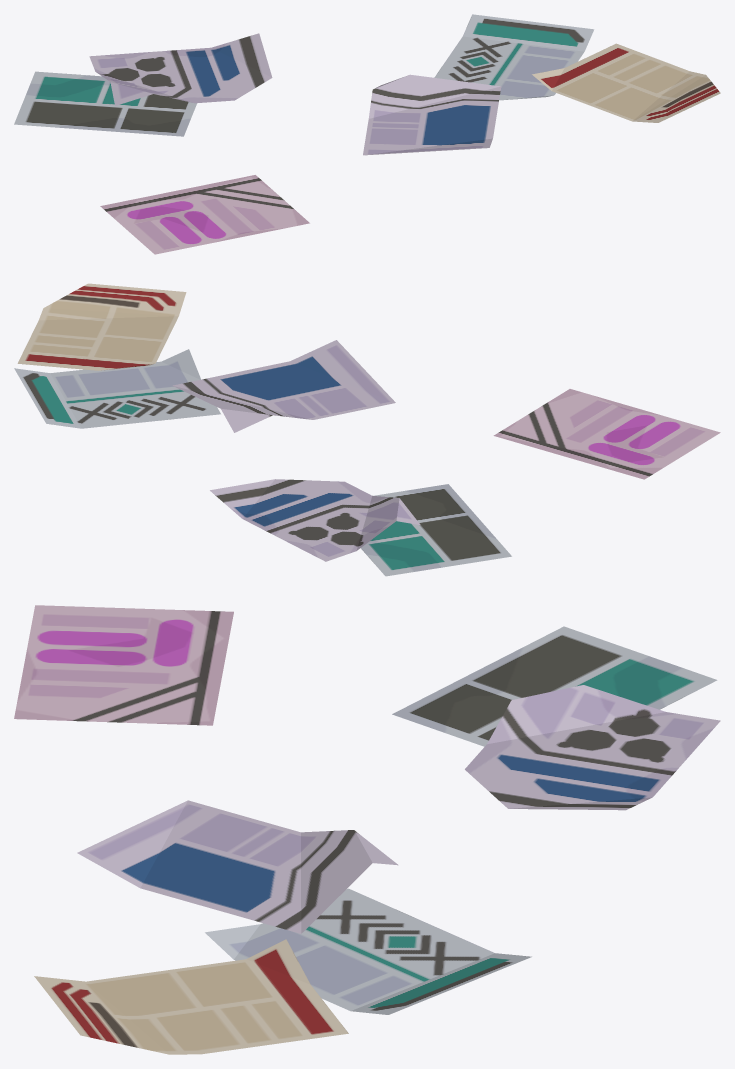
Rendered from SM_Prop_Junk_Paper_01.fbx.
3 views of the same model, one above another, from view 1: azimuth 30°, elevation 25°; view 2: azimuth 150°, elevation 25°; view 3: azimuth 270°, elevation 25° (orthographic). The views are drawn at different scales.
Visible parts, largest first — view 1: SM_Prop_Junk_Paper_01; view 2: SM_Prop_Junk_Paper_01; view 3: SM_Prop_Junk_Paper_01.
Part boxes in pixels (box(x1,y1,x2,y2)): SM_Prop_Junk_Paper_01: box(14, 14, 720, 254); SM_Prop_Junk_Paper_01: box(14, 283, 720, 576); SM_Prop_Junk_Paper_01: box(14, 605, 720, 1054).
Size of the model in its own units: 129 by 2.66 by 84.53.
